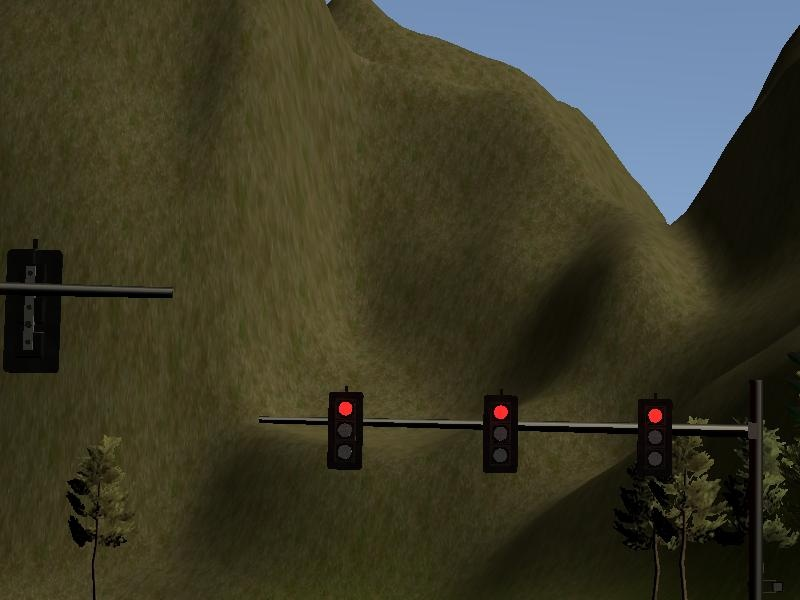RED: (327, 390, 363, 469), (482, 393, 518, 472), (635, 396, 671, 475)
